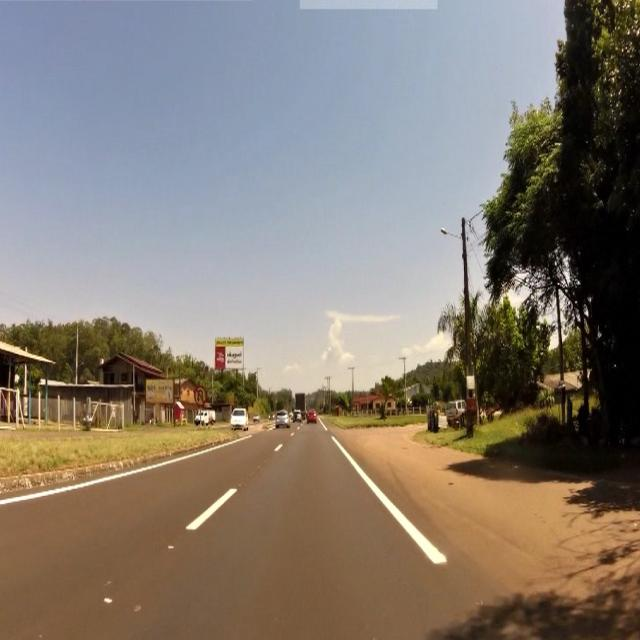R-5a: (195, 389, 206, 406)
